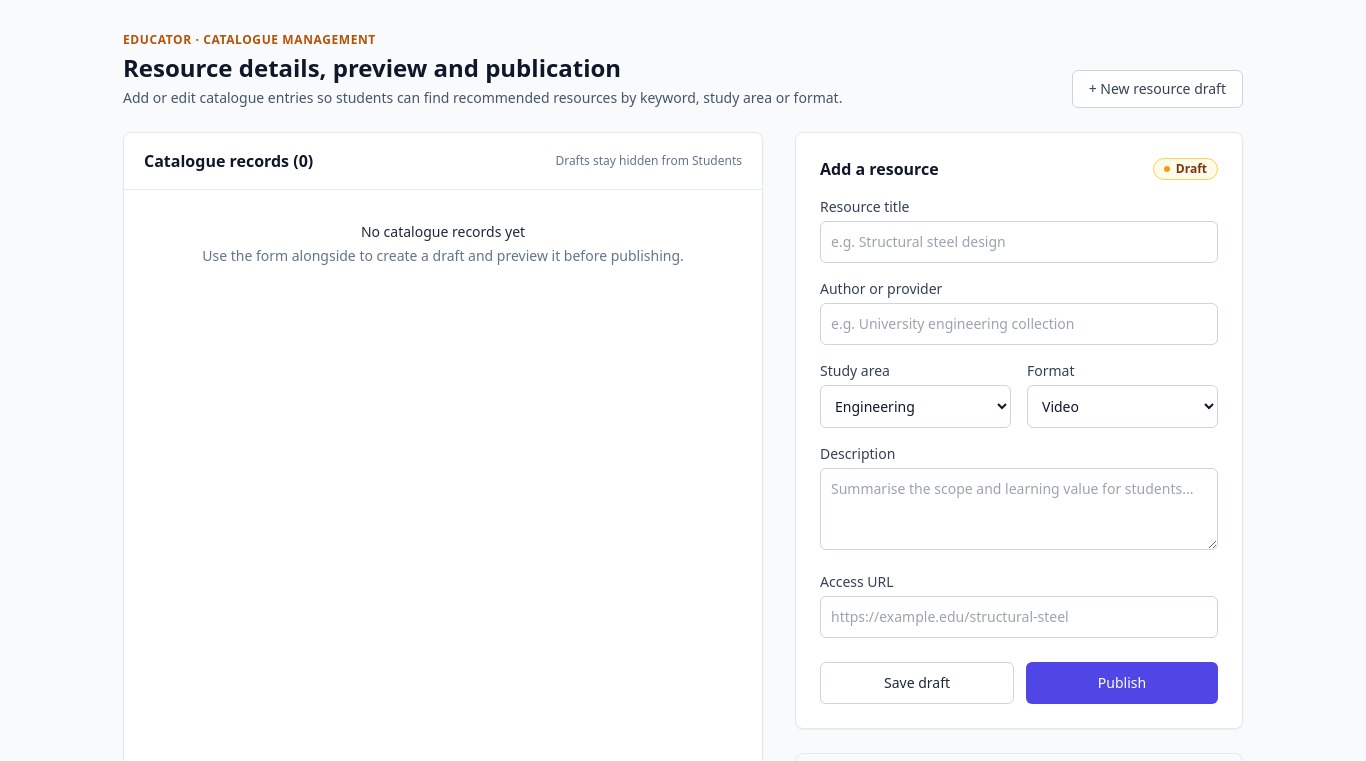
Scenario: T7 · Kadidjiny Library UI States, Role Guard & Form Entry Preservation (LRL-29) › AdminResources preserves valid user entries and identifies invalid field inline on 400 error (T7 Should)
In the field labelled "Resource title": (1019, 242) [820,221,1218,263], type "Structural steel design"
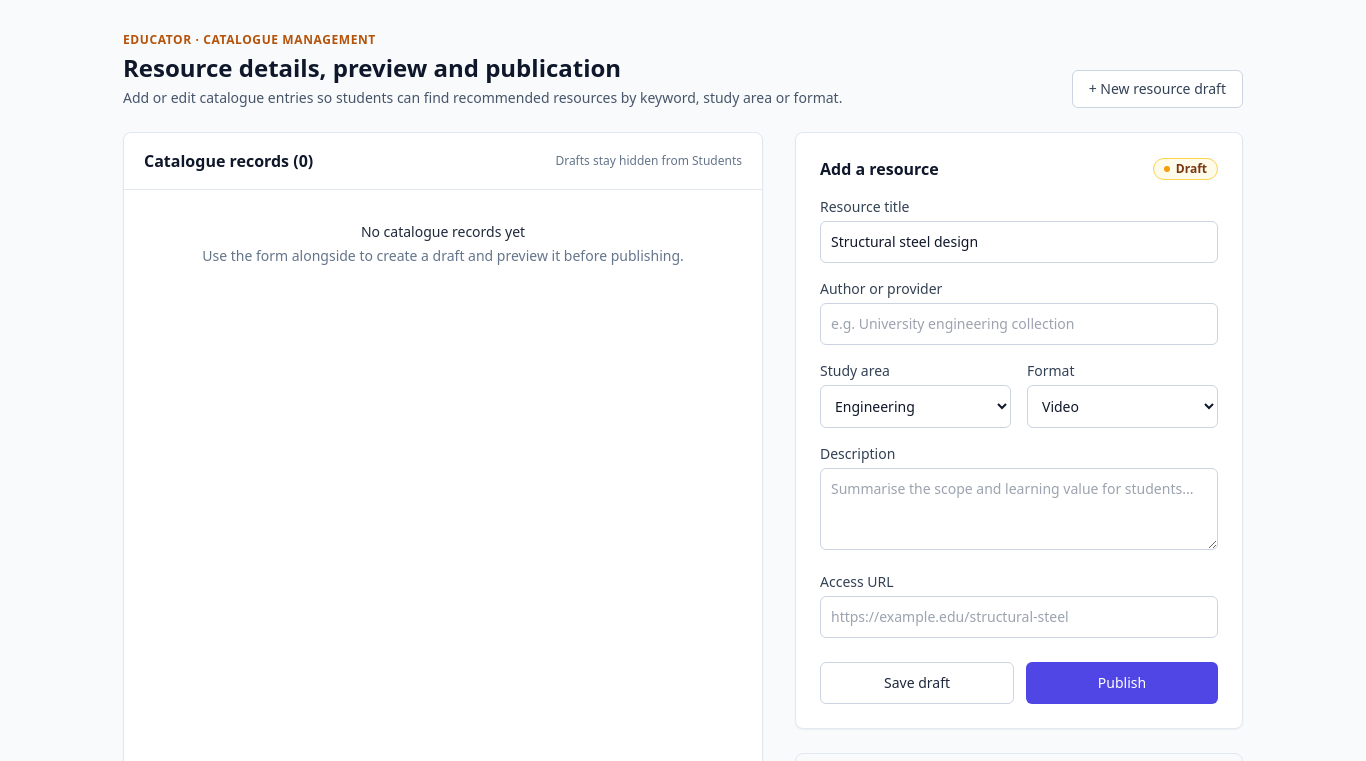
In the field labelled "Author or provider": (1019, 324) [820,303,1218,345], type "University engineering collection"
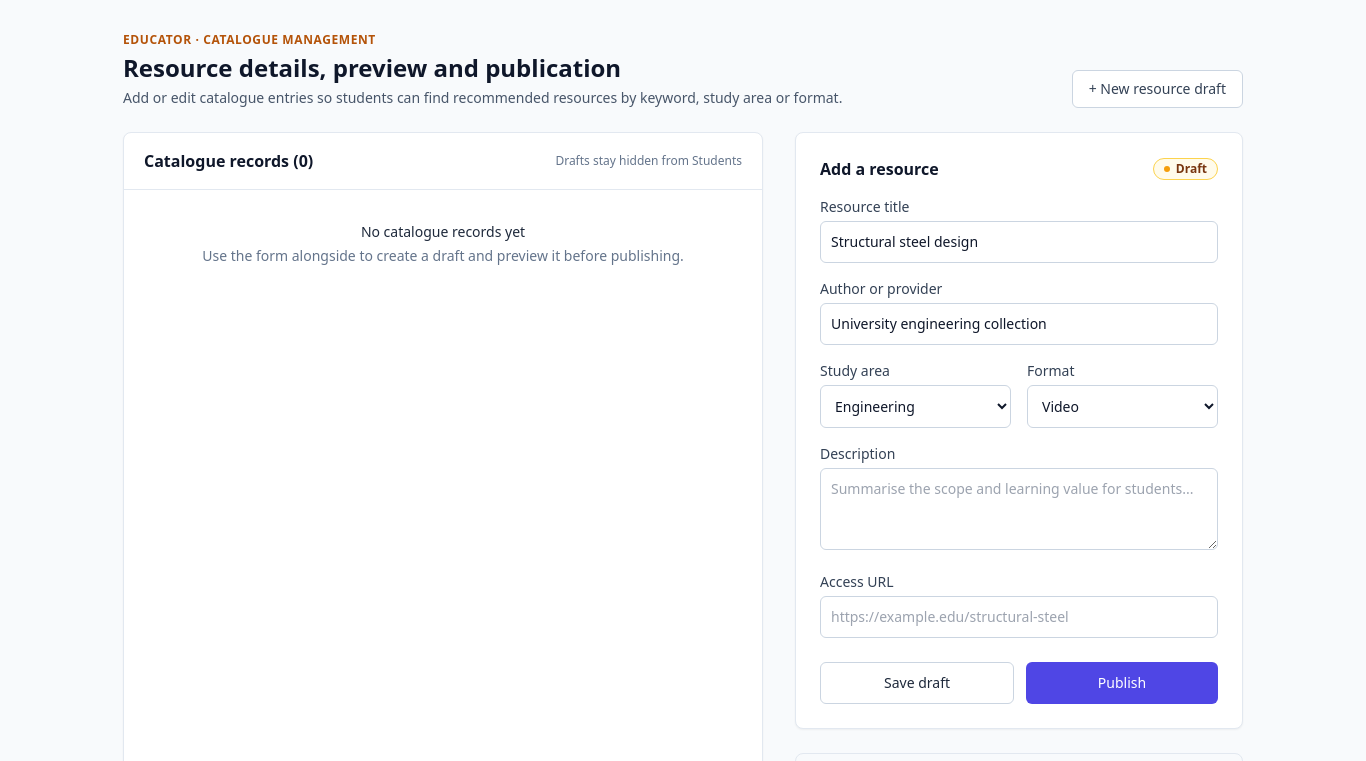
In the text box labelled "Description": (1019, 509) [820,468,1218,550], type "AS 4100 member design guide."
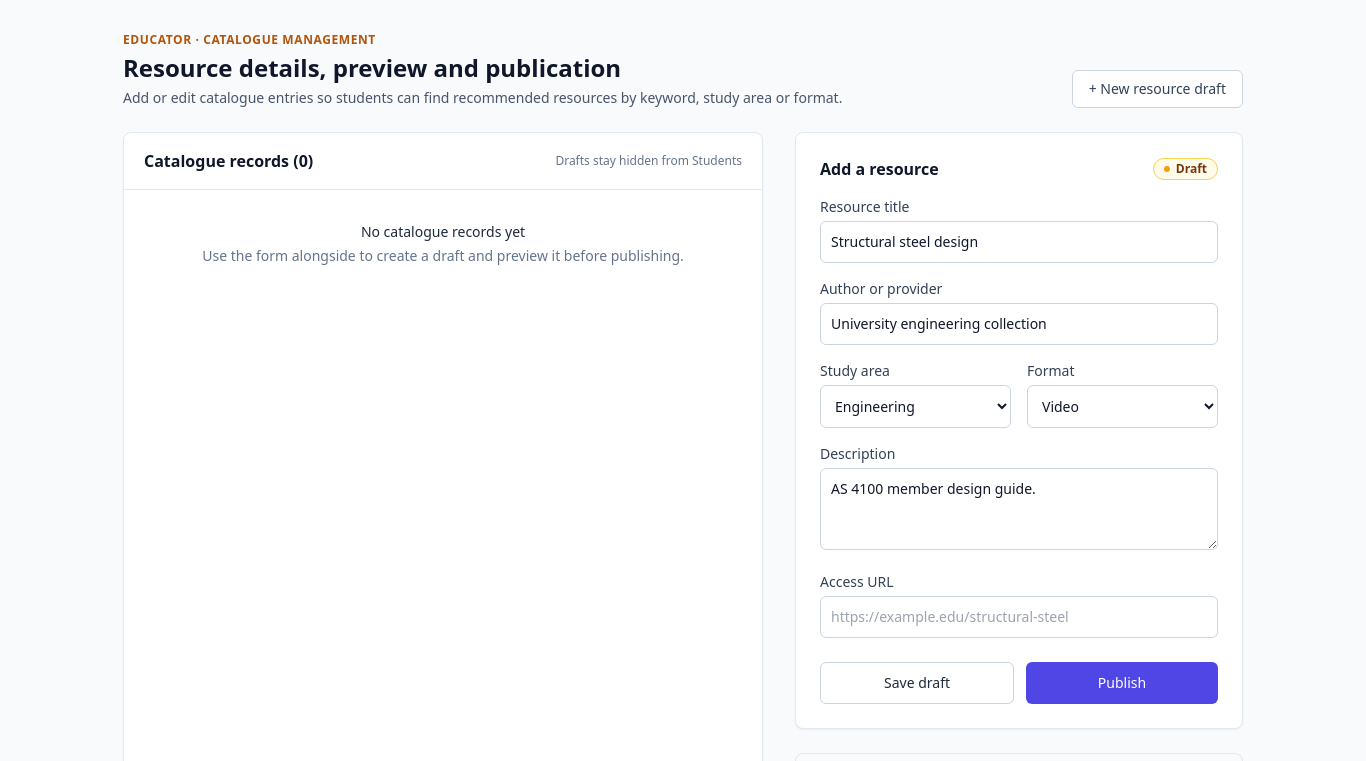
In the field labelled "Access URL": (1019, 617) [820,596,1218,638], type "invalid-link"
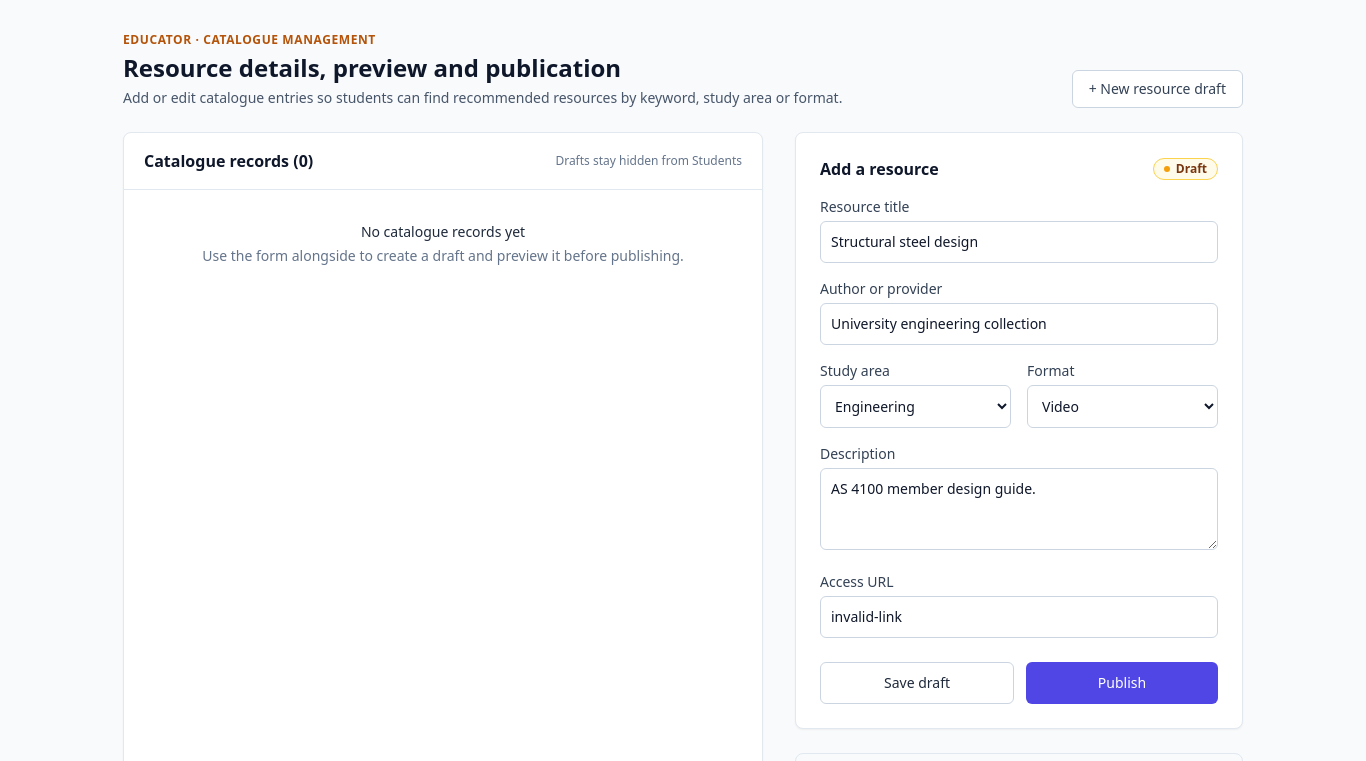
Click the button "Publish": (1122, 683) [1026,662,1218,704]
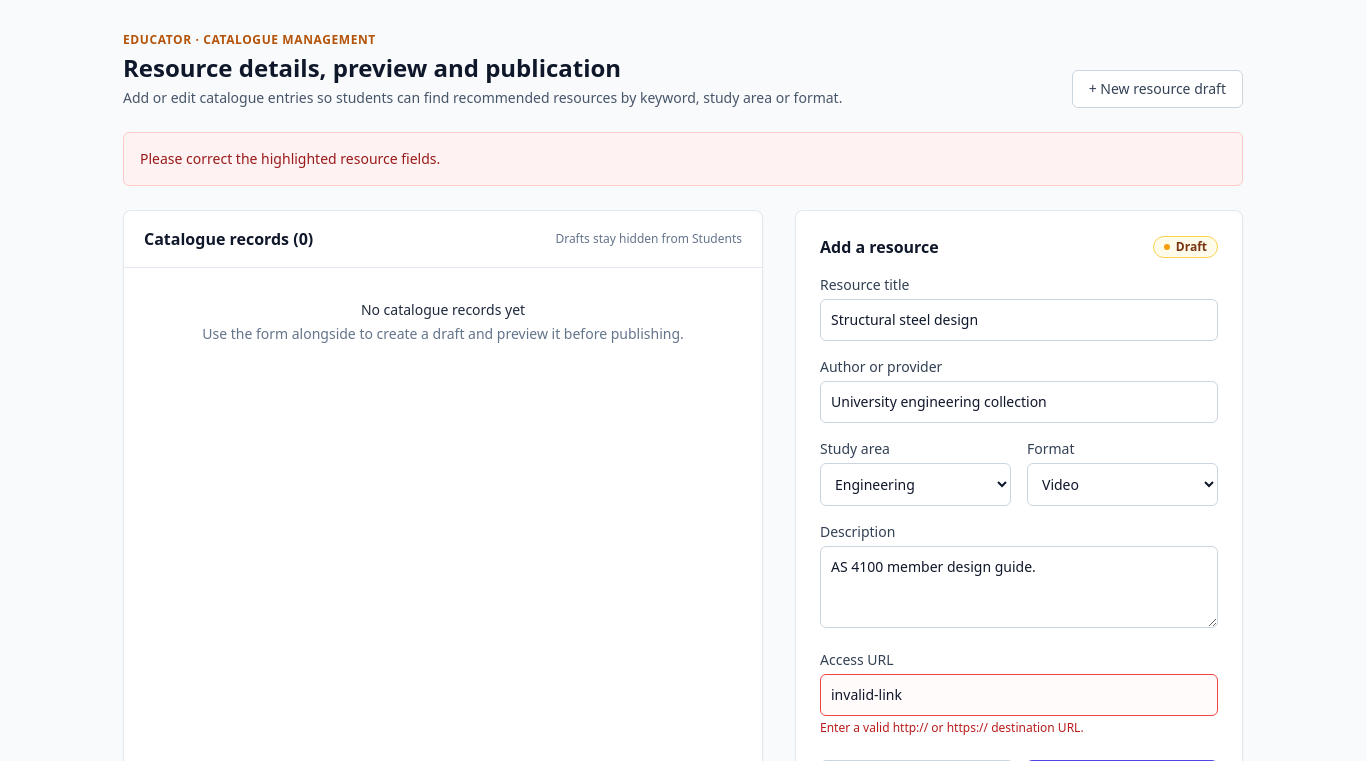
Result: the text "Enter a valid http:// or https:// destination URL." is shown at [820,719,1084,736]
